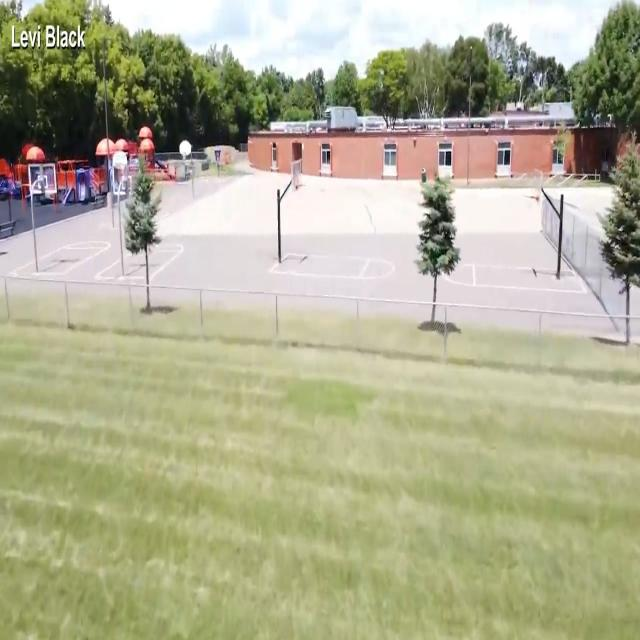Building: (247, 102, 640, 180)
Tree: (596, 125, 640, 343), (414, 170, 462, 330), (127, 167, 161, 314)
